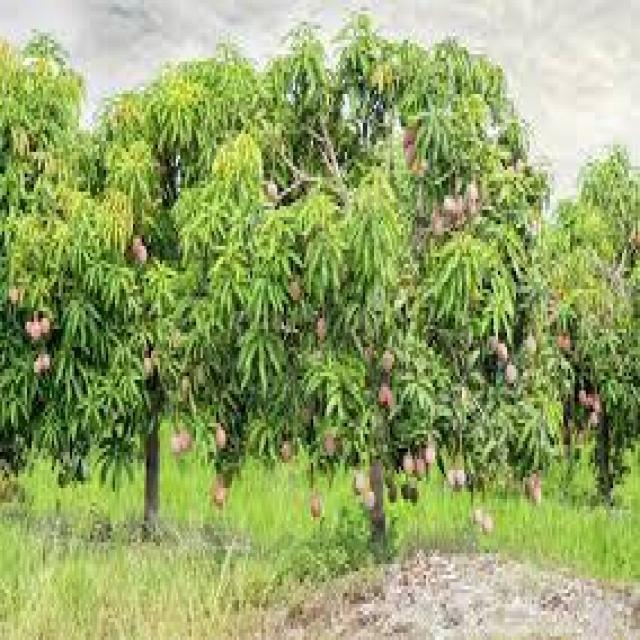Tree: (242, 36, 583, 566), (10, 23, 230, 570)
